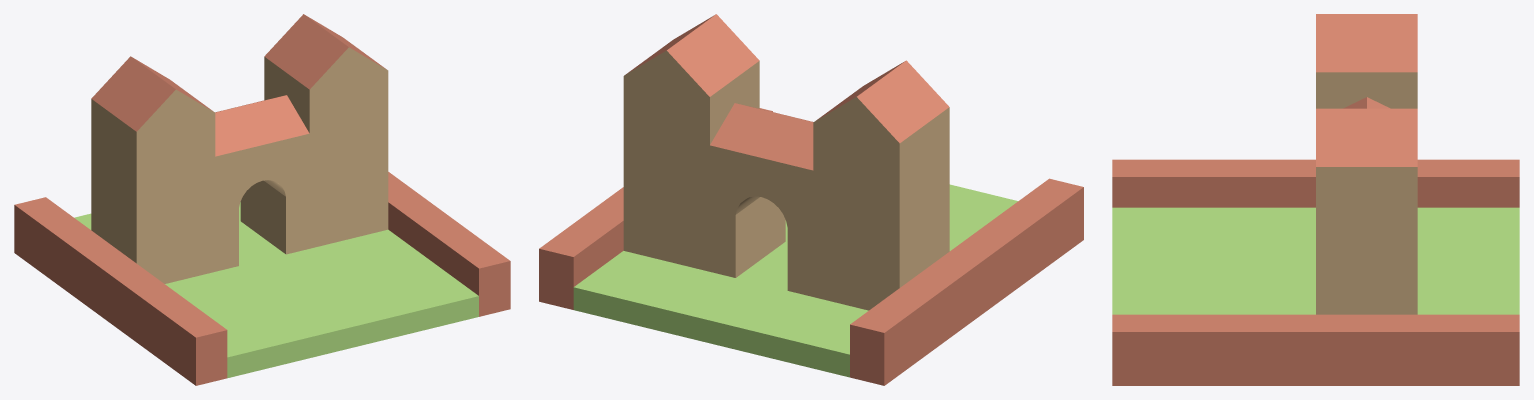
The model's file is Castle_01.glb.
The picture shows the model from 3 angles, left to right: view 1: azimuth 30°, elevation 25°; view 2: azimuth 150°, elevation 25°; view 3: azimuth 270°, elevation 25°; orthographic projection. The views are drawn at different scales.
Parts seen in each view (by area): view 1: Mesh1 Castle Model; view 2: Mesh1 Castle Model; view 3: Mesh1 Castle Model.
Boxes of the visible parts, box(x1,y1,x2,y2) form: Mesh1 Castle Model: box(14, 14, 510, 385); Mesh1 Castle Model: box(539, 14, 1083, 385); Mesh1 Castle Model: box(1112, 14, 1519, 385).
Size of the model in its own units: 3 by 1.94 by 3.
